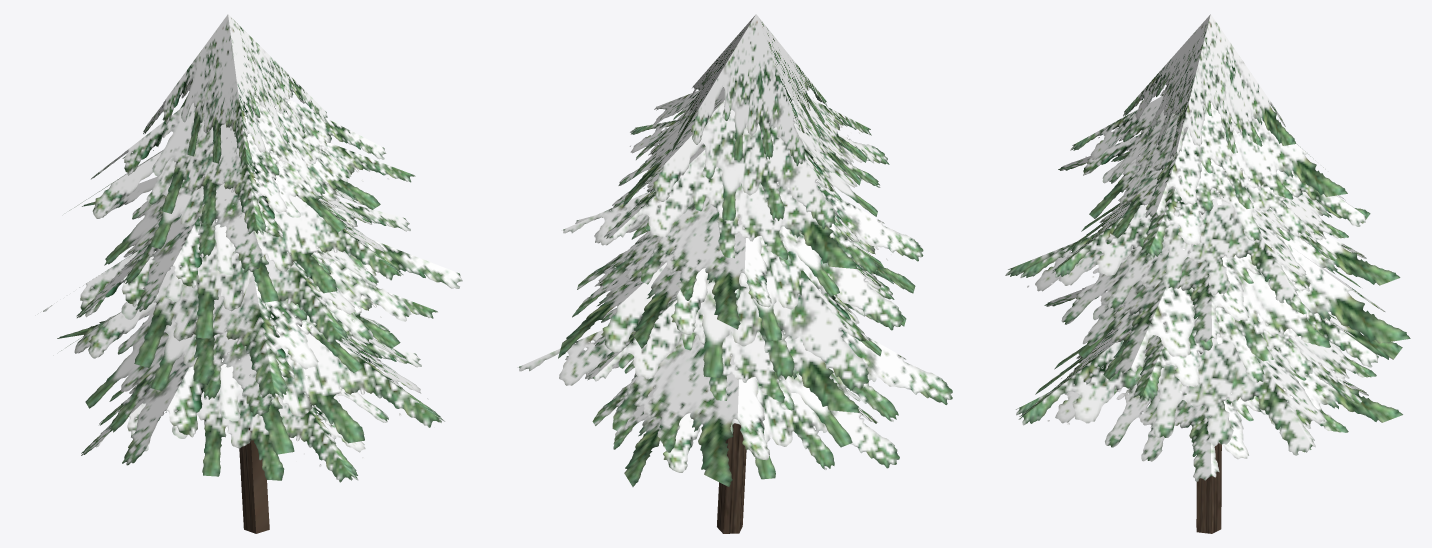
Rendered from tree.fbx.
The picture shows the model from 3 angles, left to right: view 1: azimuth 30°, elevation 25°; view 2: azimuth 150°, elevation 25°; view 3: azimuth 270°, elevation 25°; orthographic projection. The views are drawn at different scales.
Parts seen in each view (by area): view 1: tree.095; view 2: tree.095; view 3: tree.095.
Part boxes in pixels (<box>): tree.095: <box>43,14,462,533</box>; tree.095: <box>518,14,952,533</box>; tree.095: <box>1005,14,1410,533</box>.
Bounding box in the file's own units: 569 × 757 × 570.
